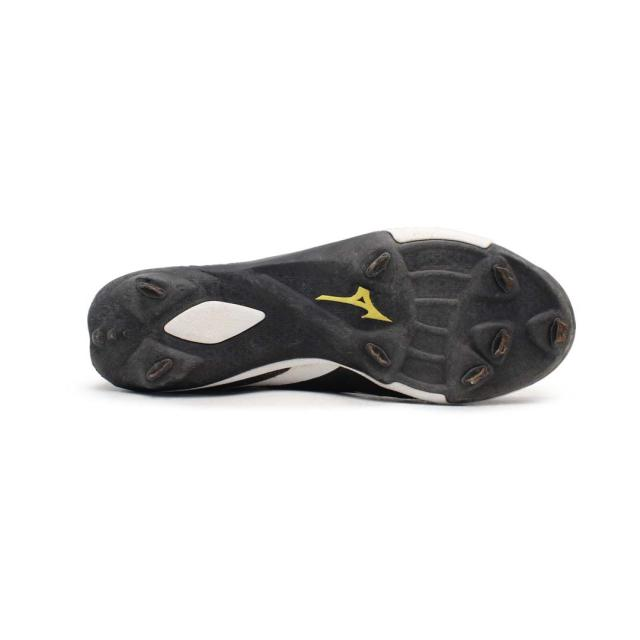outersole: (87, 235, 578, 403)
